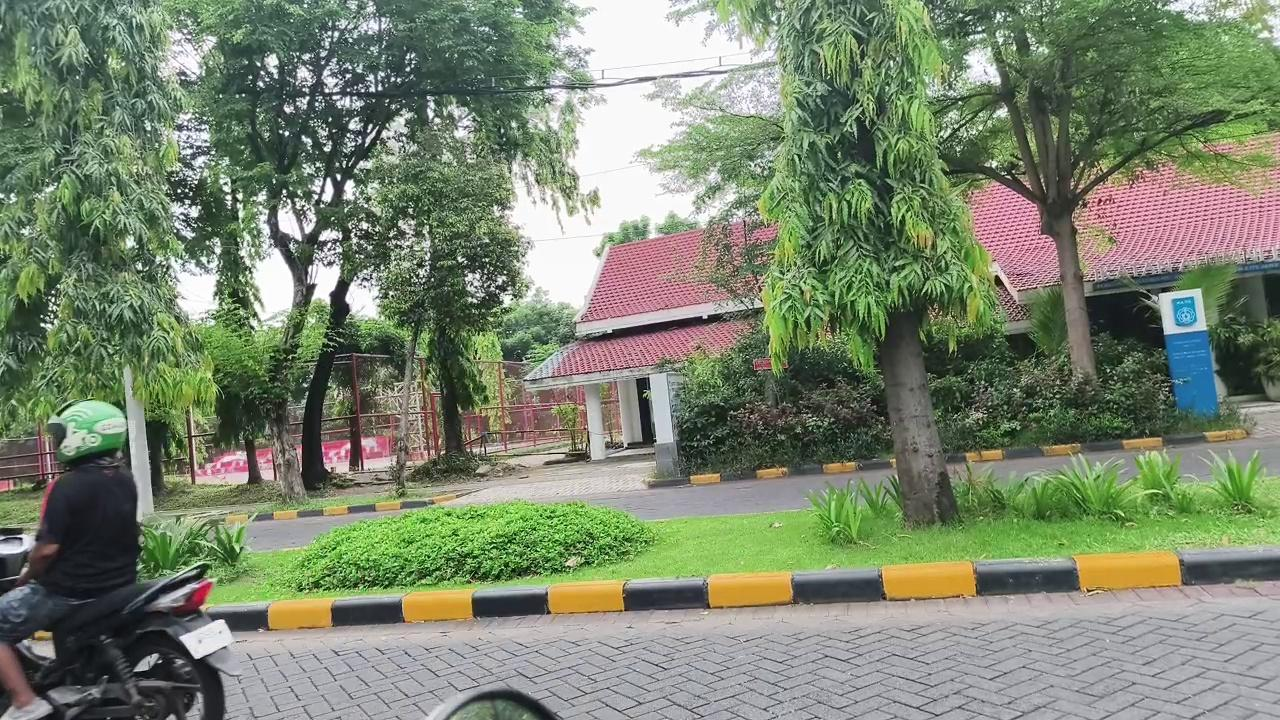Helmet: (0, 401, 140, 719)
Motor: (17, 564, 239, 719), (428, 687, 558, 719)
